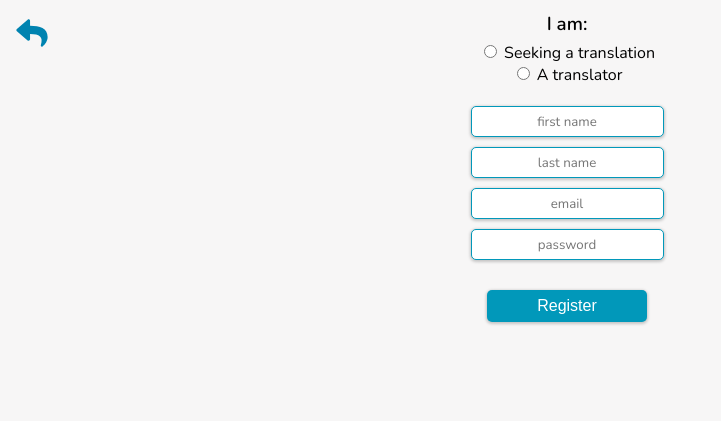
Register form › If the user selects they are a translator, the multiselect should appear
selecting the radio button through fireEvent
Click the radio button with test id "contactChoice2".
click(523, 73)  # box [517,67,530,80]
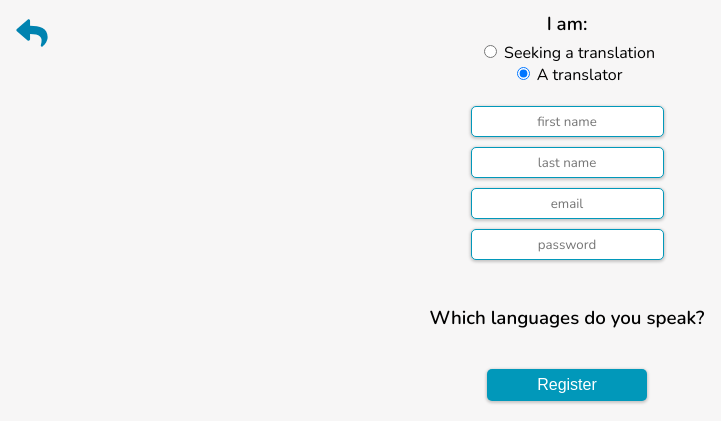
Expected: the heading "Which languages do you speak?" is shown, [430,305,704,331]
